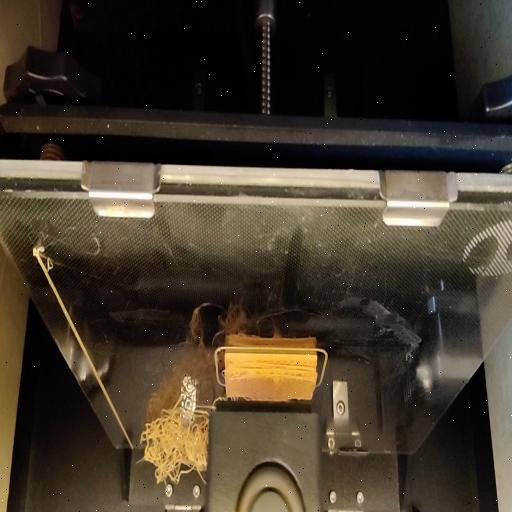spaghetti: (139, 387, 208, 485)
